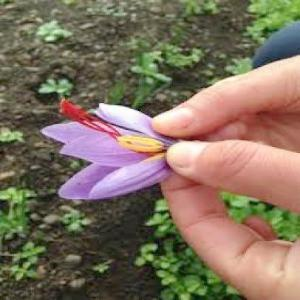Saffron: (41, 102, 198, 199)
